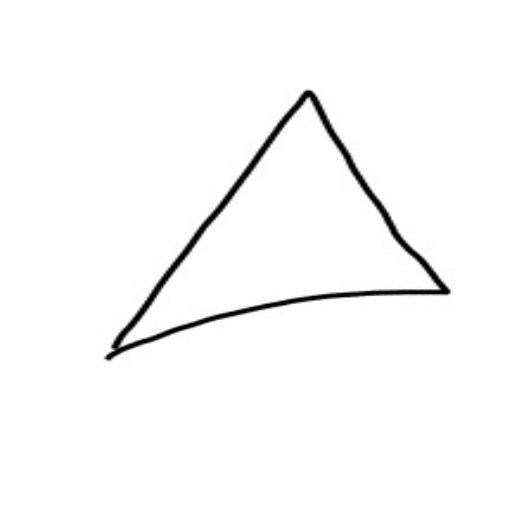triangle: (94, 85, 458, 370)
